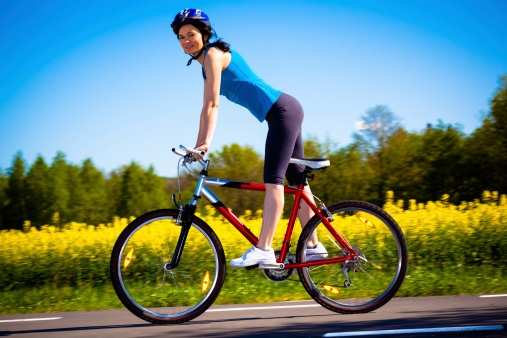helmet: (168, 7, 215, 58)
